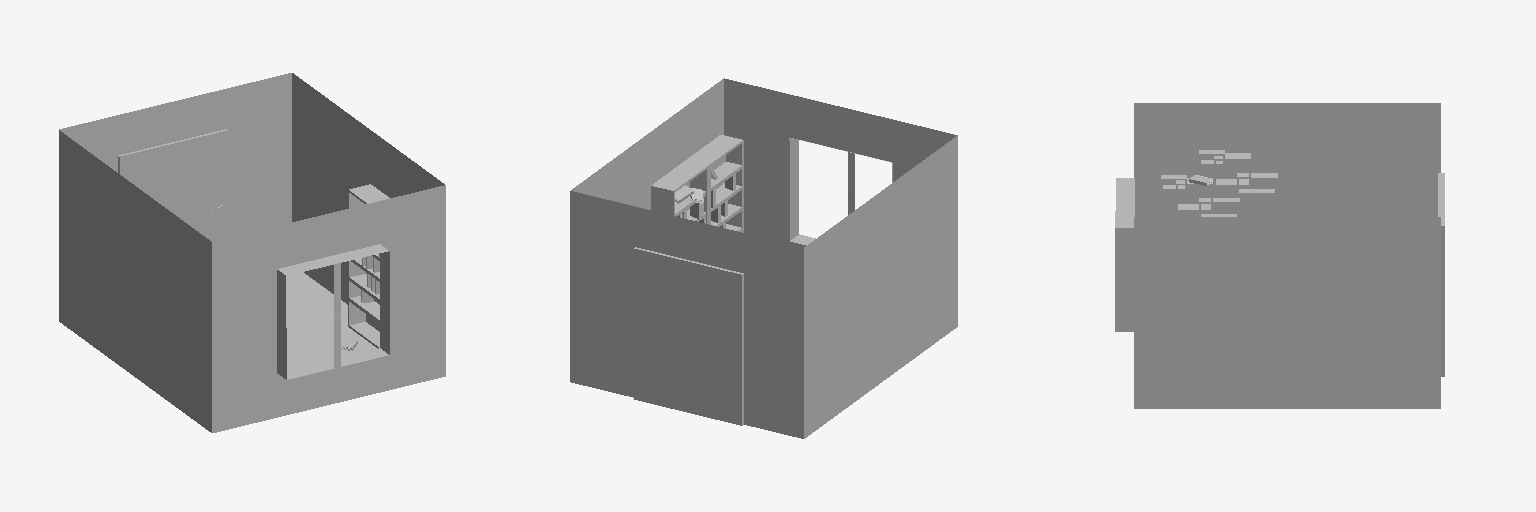
The model's file is Room.obj.
The picture shows the model from 3 angles: view 1: azimuth 30°, elevation 25°; view 2: azimuth 150°, elevation 25°; view 3: azimuth 270°, elevation 25°; orthographic projection.
Visible parts, largest first — view 1: Плоскость.035_Плоскость.010; view 2: Плоскость.035_Плоскость.010; view 3: Плоскость.035_Плоскость.010.
Part boxes in pixels (x1,y1,x2,y2): Плоскость.035_Плоскость.010: (59,73,445,432); Плоскость.035_Плоскость.010: (570,78,957,438); Плоскость.035_Плоскость.010: (1115,103,1444,408).
Bounding box in the file's own units: 6.77 × 5.3 × 8.27.